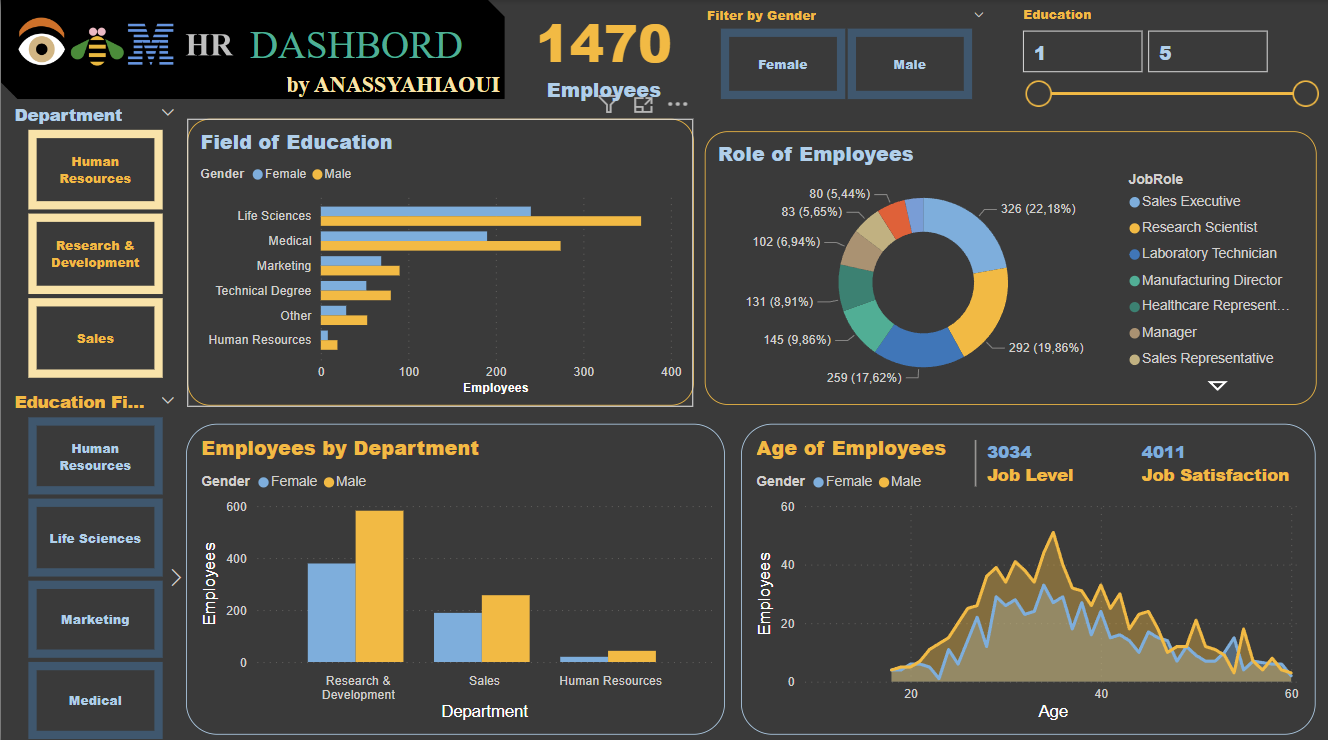

This screenshot's page, from the dashboard's own definition file:
{"tool":"powerbi","page":{"name":"Page 1","canvas":[1280,720],"ordinal":0},"visuals":[{"type":"slicer","fields":{"Values":["IBM HR.Gender"]},"box":[668.6,1.4,292.9,101.4],"z":0},{"type":"card","fields":{"Values":["Sum(WA_Fn-UseC_-HR-Employee-Attrition.EmployeeCount)"]},"box":[462.9,207.1,235.7,108.6],"z":1000},{"type":"slicer","fields":{"Values":["WA_Fn-UseC_-HR-Employee-Attrition.Department"]},"box":[0,94.3,180,277.1],"z":2000},{"type":"slicer","fields":{"Values":["WA_Fn-UseC_-HR-Employee-Attrition.EducationField"]},"box":[0,371.4,180,348.6],"z":3000},{"type":"clusteredBarChart","title":"Field of Education","fields":{"Category":["IBM HR.EducationField"],"Series":["WA_Fn-UseC_-HR-Employee-Attrition.Gender"],"Y":["Sum(IBM HR.EmployeeCount)"]},"box":[180,114.3,488.6,277.1],"z":4000},{"type":"clusteredColumnChart","title":"Employees by Department","fields":{"Category":["WA_Fn-UseC_-HR-Employee-Attrition.Department"],"Series":["WA_Fn-UseC_-HR-Employee-Attrition.Gender"],"Y":["Sum(IBM HR.EmployeeCount)"]},"box":[178.6,408.6,520,300],"z":5000},{"type":"areaChart","title":"Age of Employees","fields":{"Category":["IBM HR.Age"],"Y":["Sum(IBM HR.EmployeeCount)"],"Series":["IBM HR.Gender"]},"box":[714.3,408.6,554.3,300],"z":6000},{"type":"slicer","fields":{"Values":["IBM HR.Education"]},"box":[972.9,0,307.1,114.3],"z":7000},{"type":"donutChart","title":"Role of Employees","fields":{"Category":["IBM HR.JobRole"],"Y":["Sum(IBM HR.EmployeeCount)"]},"box":[678.6,127.1,590,264.3],"z":8000},{"type":"multiRowCard","fields":{"Values":["Sum(IBM HR.JobLevel)","Sum(IBM HR.JobSatisfaction)"]},"box":[934.3,420,320,55.7],"z":9000},{"type":"textbox","box":[235.7,17.1,227.1,70],"z":10000},{"type":"card","fields":{"Values":["Sum(IBM HR.EmployeeCount)"]},"box":[507.1,0,148.6,104.3],"z":11000},{"type":"textbox","box":[270.2,65.1,229.1,38.6],"z":12000}]}

Visuals, with their boxes in screenshot pixels (x1, y1, x2, y2), scaled from the page's 1280x720 canvas onto the 1328x740 screenshot:
slicer - IBM HR.Gender: left=694, top=1, right=998, bottom=106
card - Sum(WA_Fn-UseC_-HR-Employee-Attrition.EmployeeCount): left=480, top=213, right=725, bottom=324
slicer - WA_Fn-UseC_-HR-Employee-Attrition.Department: left=0, top=97, right=187, bottom=382
slicer - WA_Fn-UseC_-HR-Employee-Attrition.EducationField: left=0, top=382, right=187, bottom=739
"Field of Education" clusteredBarChart: left=187, top=117, right=694, bottom=402
"Employees by Department" clusteredColumnChart: left=185, top=420, right=725, bottom=728
"Age of Employees" areaChart: left=741, top=420, right=1316, bottom=728
slicer - IBM HR.Education: left=1009, top=0, right=1327, bottom=117
"Role of Employees" donutChart: left=704, top=131, right=1316, bottom=402
multiRowCard - Sum(IBM HR.JobLevel) x Sum(IBM HR.JobSatisfaction): left=969, top=432, right=1301, bottom=489
textbox: left=245, top=18, right=480, bottom=90
card - Sum(IBM HR.EmployeeCount): left=526, top=0, right=680, bottom=107
textbox: left=280, top=67, right=518, bottom=107
